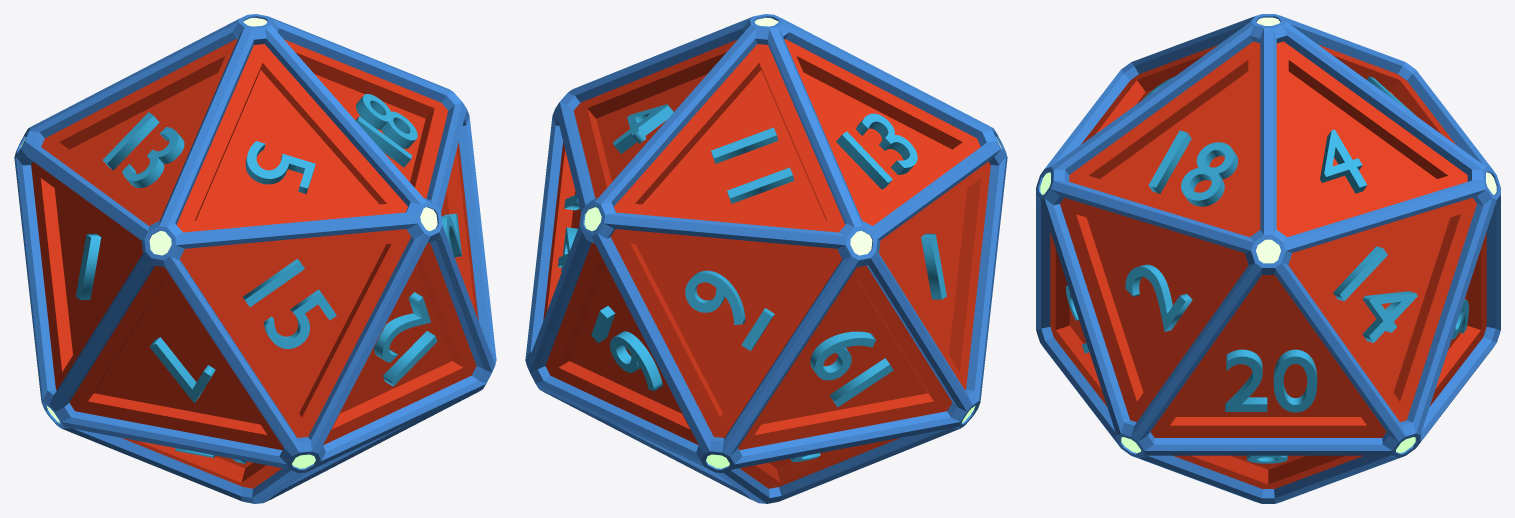
The model's file is Dice.fbx.
3 renders of one model, left to right at view 1: azimuth 30°, elevation 25°; view 2: azimuth 150°, elevation 25°; view 3: azimuth 270°, elevation 25°, orthographic.
Parts seen in each view (by area): view 1: d20 die, d20 outline, 13, 18, 12, 15, 5, 7, 1, 2; view 2: d20 die, d20 outline, 19, 13, 11, 9, 6, 4, 1, 14, 9 underscore, 6 underscore; view 3: d20 die, d20 outline, 20, 18, 14, 2, 4.
Part boxes in pixels (x1,y1,x2,y2): d20 die: [31, 39, 478, 488]; d20 outline: [14, 14, 496, 503]; 13: [103, 112, 184, 188]; 18: [355, 94, 417, 167]; 12: [374, 292, 437, 386]; 15: [243, 259, 336, 348]; 5: [245, 141, 315, 193]; 7: [149, 337, 215, 403]; 1: [75, 233, 101, 300]; 2: [441, 213, 461, 257]; d20 die: [543, 39, 990, 488]; d20 outline: [525, 14, 1007, 503]; 19: [810, 331, 893, 407]; 13: [836, 113, 917, 189]; 11: [711, 127, 794, 203]; 9: [685, 270, 745, 324]; 6: [610, 331, 662, 390]; 4: [613, 104, 673, 153]; 1: [921, 233, 946, 299]; 14: [558, 194, 579, 272]; 9 underscore: [741, 308, 774, 350]; 6 underscore: [591, 306, 615, 342]; d20 die: [1050, 41, 1486, 488]; d20 outline: [1036, 14, 1500, 503]; 20: [1225, 349, 1317, 412]; 18: [1148, 130, 1237, 206]; 14: [1333, 246, 1417, 342]; 2: [1125, 264, 1192, 331]; 4: [1320, 129, 1367, 193].
Size of the model in its own units: 187 by 203 by 179.
